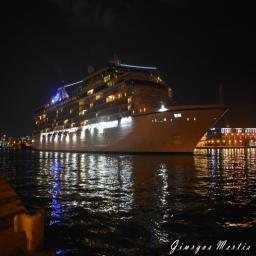cruises: (30, 53, 231, 159)
